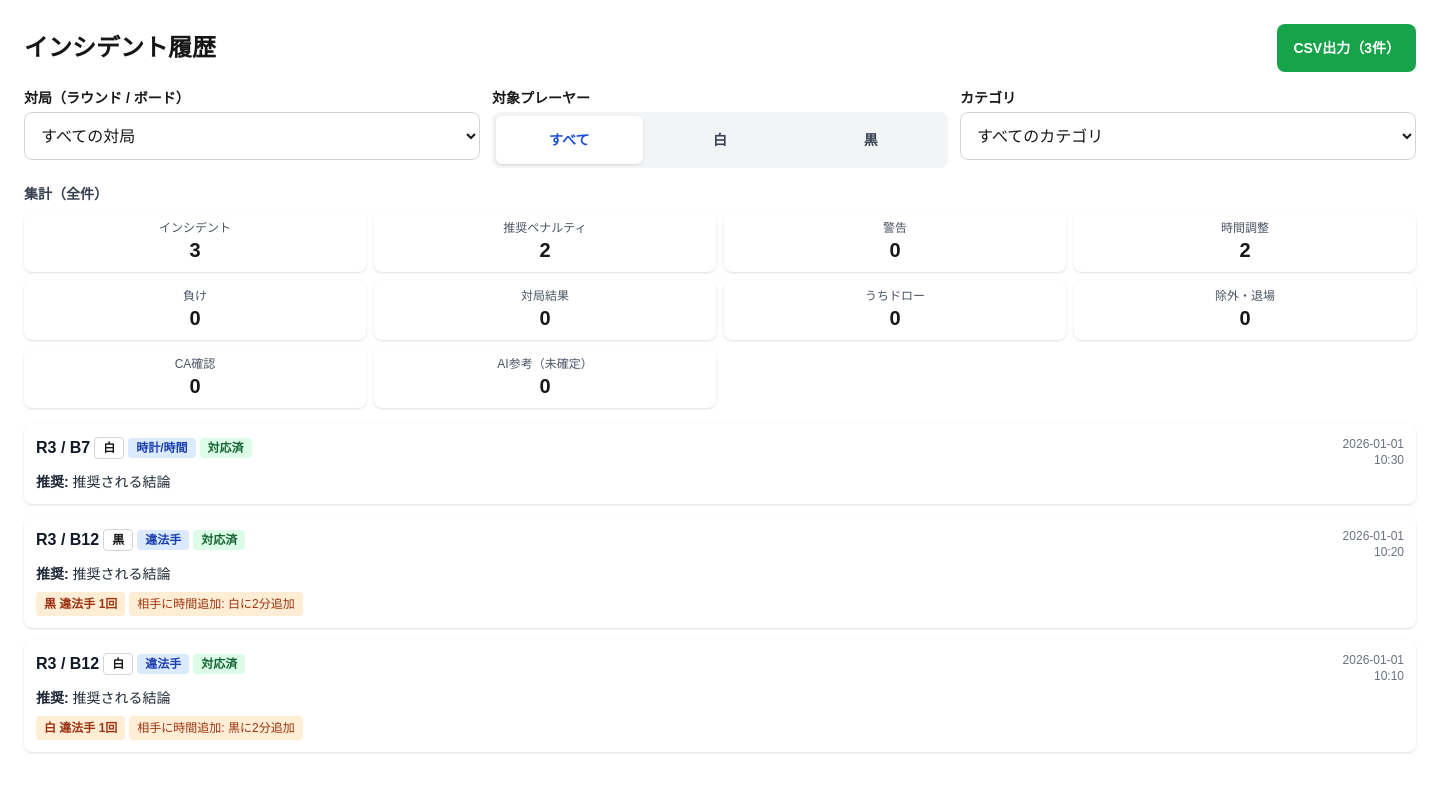
Test: IncidentLogView › restores focus to the tapped row even if the tap did not focus it (Safari)
Click the 6th button at (720, 572), box [24,516,1416,628]
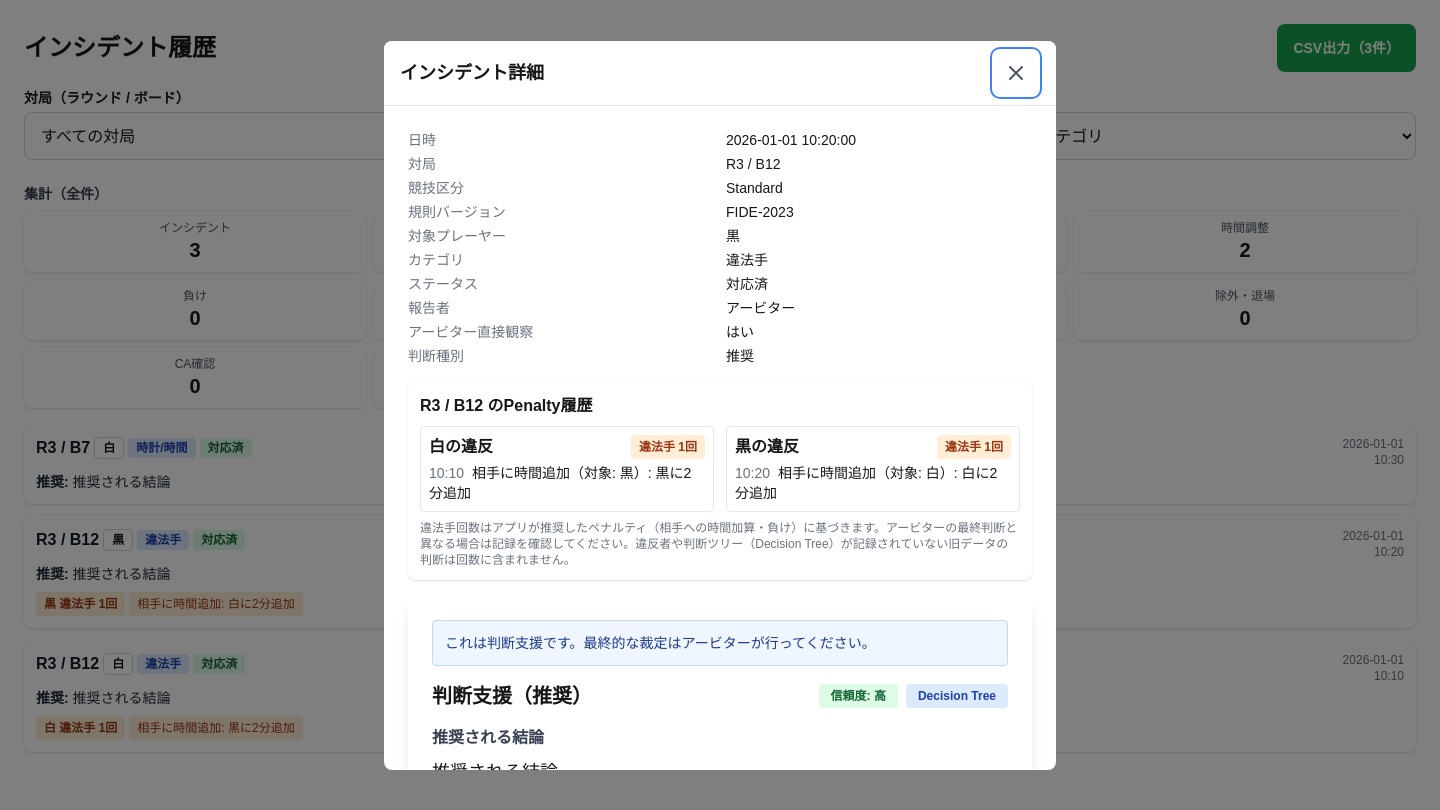
Click the button named "閉じる" at (1016, 72), box [992,48,1040,96]
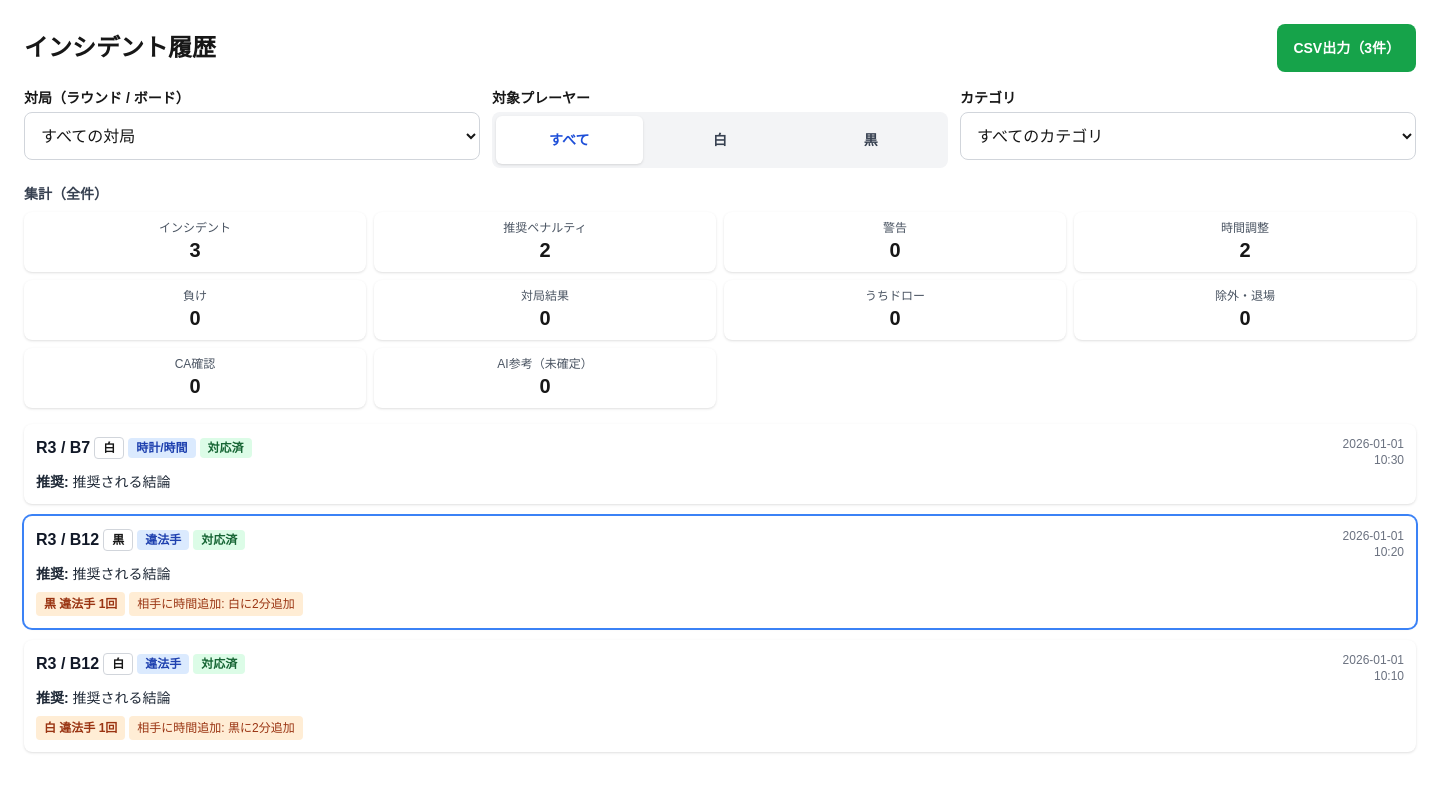
Result: the dialog is gone
